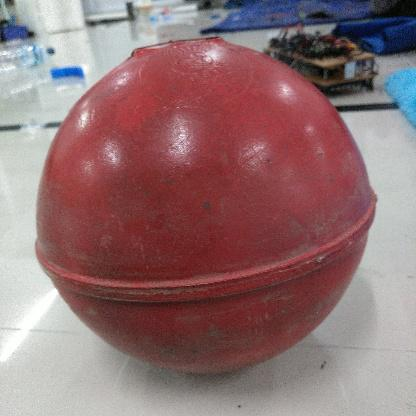red_buoy: (29, 35, 382, 383)
